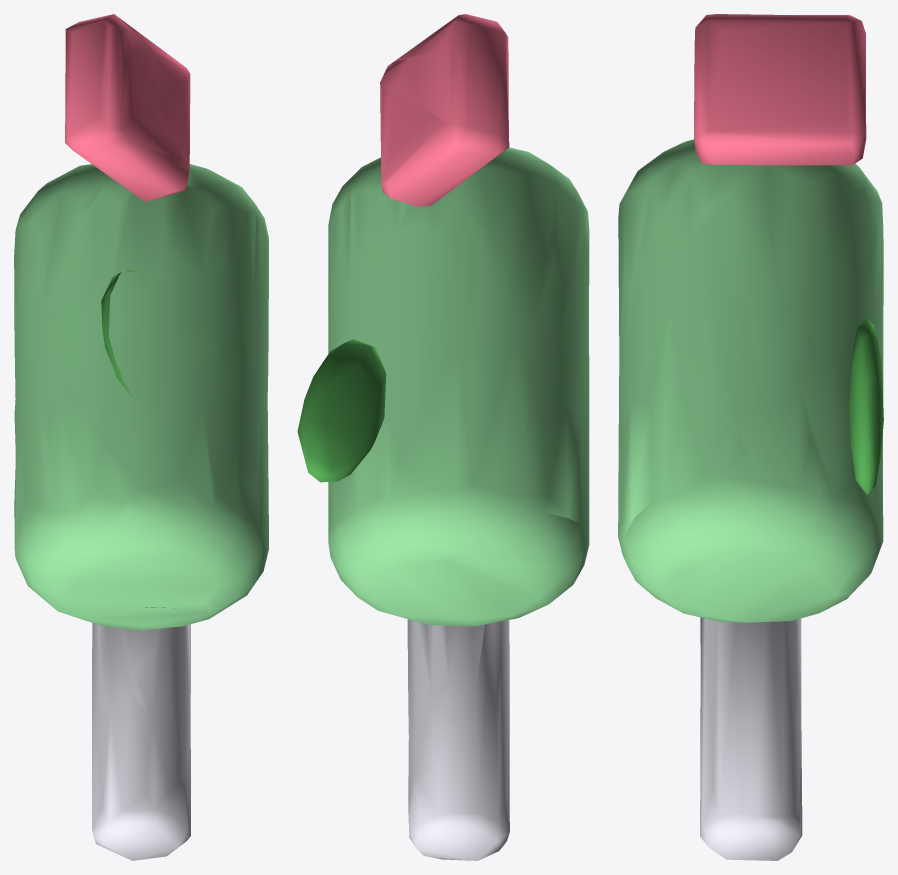
The model's file is wpn_elephaid.glb.
3 renders of one model, left to right at view 1: azimuth 30°, elevation 25°; view 2: azimuth 150°, elevation 25°; view 3: azimuth 270°, elevation 25°, orthographic. The views are drawn at different scales.
Parts seen in each view (by area): view 1: body; view 2: body; view 3: body.
Boxes of the visible parts, bbox=[...] form: body: bbox=[14, 14, 268, 860]; body: bbox=[297, 14, 589, 860]; body: bbox=[618, 14, 883, 860].
Size of the model in its own units: 0.4607 by 1.58 by 0.4612.
Materials: 1 (1 with a texture image).
